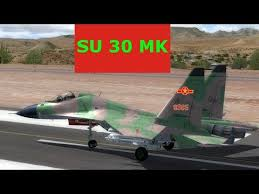maybay_muctieu: (19, 66, 256, 162)
